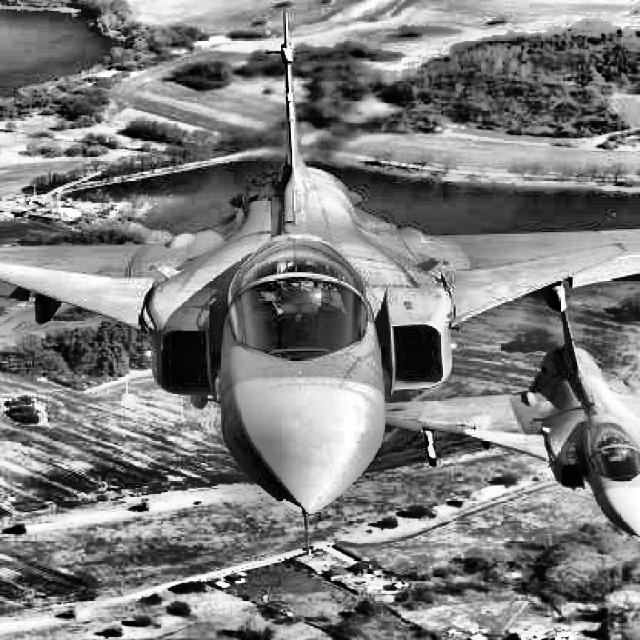JAS39: (1, 10, 639, 555), (386, 293, 640, 542)
